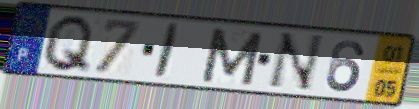6: (325, 38, 366, 94)
7: (92, 17, 143, 77)
I: (150, 21, 183, 82)
M: (198, 25, 266, 88)
N: (263, 31, 327, 94)
Q: (40, 13, 97, 76)
